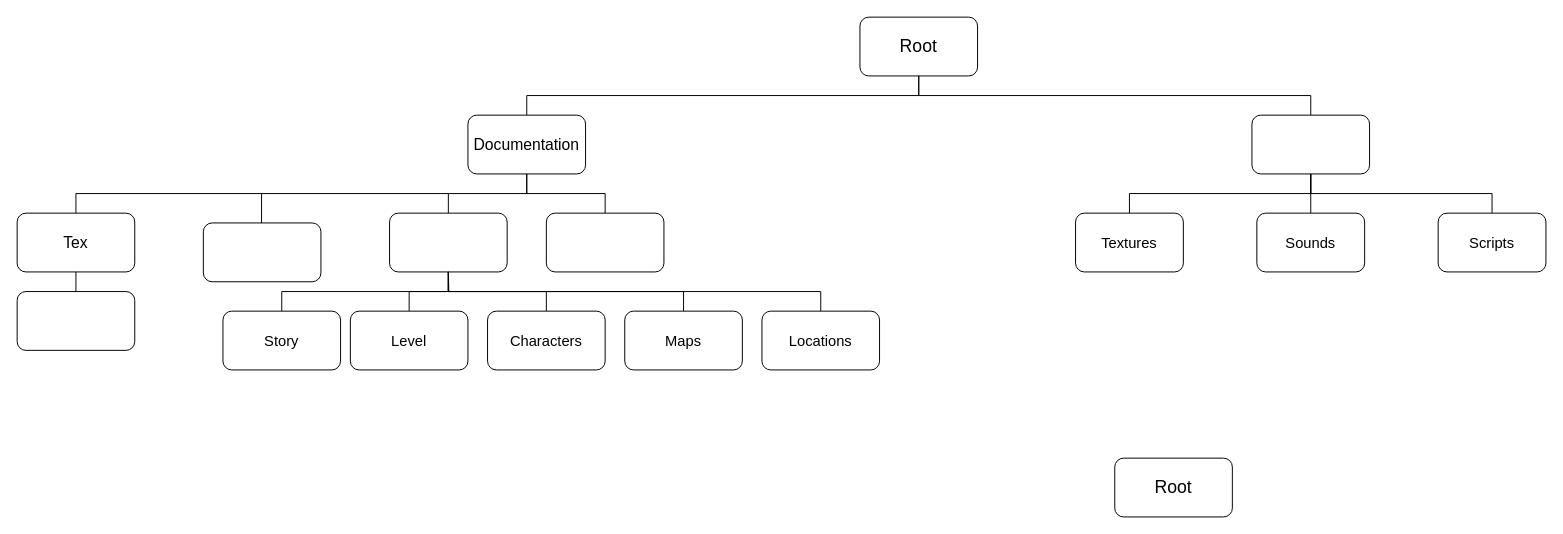
The diagram is 1563 pixels wide and 534 high, and some of its shapes have lost their labels. The shapes that lost their labels are listed below. From the top down, each one's centre as x and y in pixels, then its label:
point (1310, 144): Resources
point (261, 252): Data organization document
point (448, 242): Pictures
point (604, 242): Export
point (75, 320): Game Design Document
